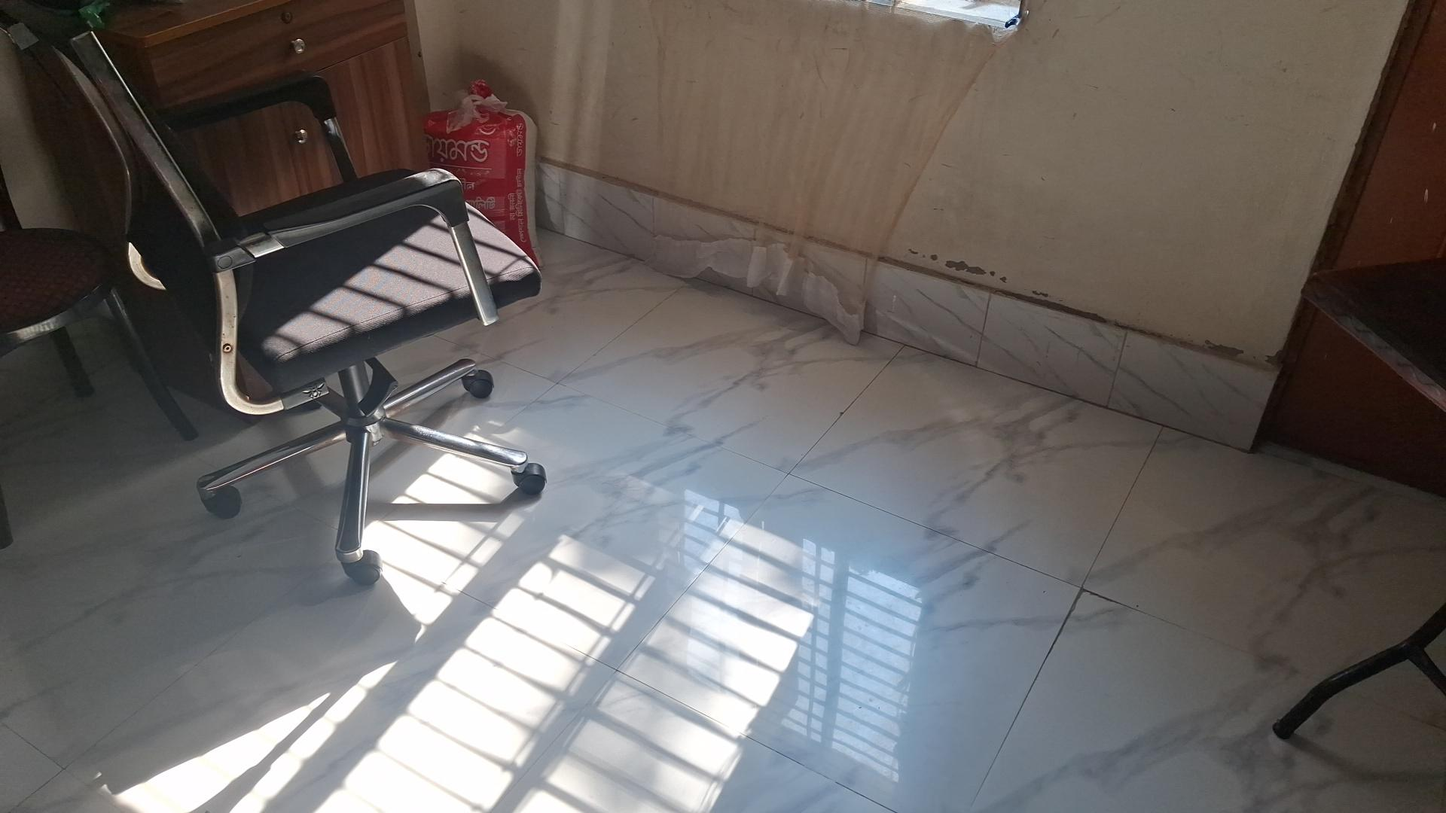Chair: (35, 24, 544, 583), (0, 167, 199, 550)
